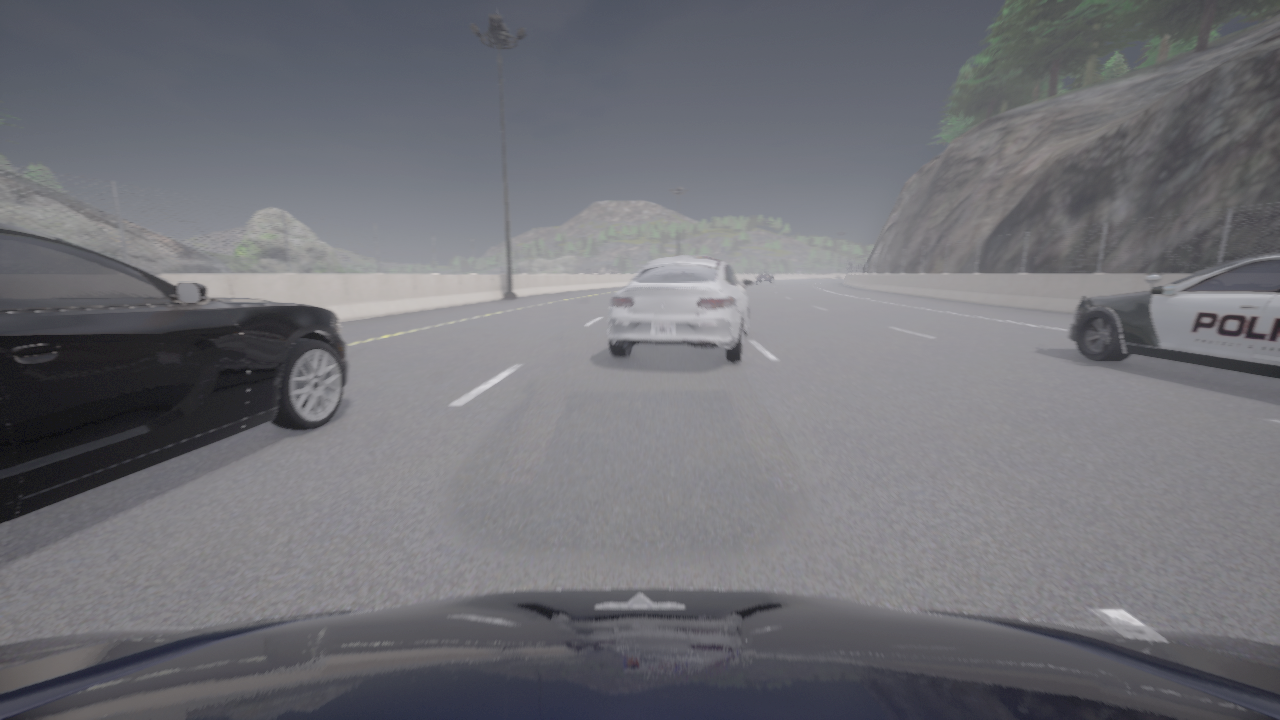cyclist: (0, 588, 1279, 719), (1067, 253, 1279, 379), (608, 258, 753, 362), (755, 271, 774, 284), (675, 256, 713, 258)
